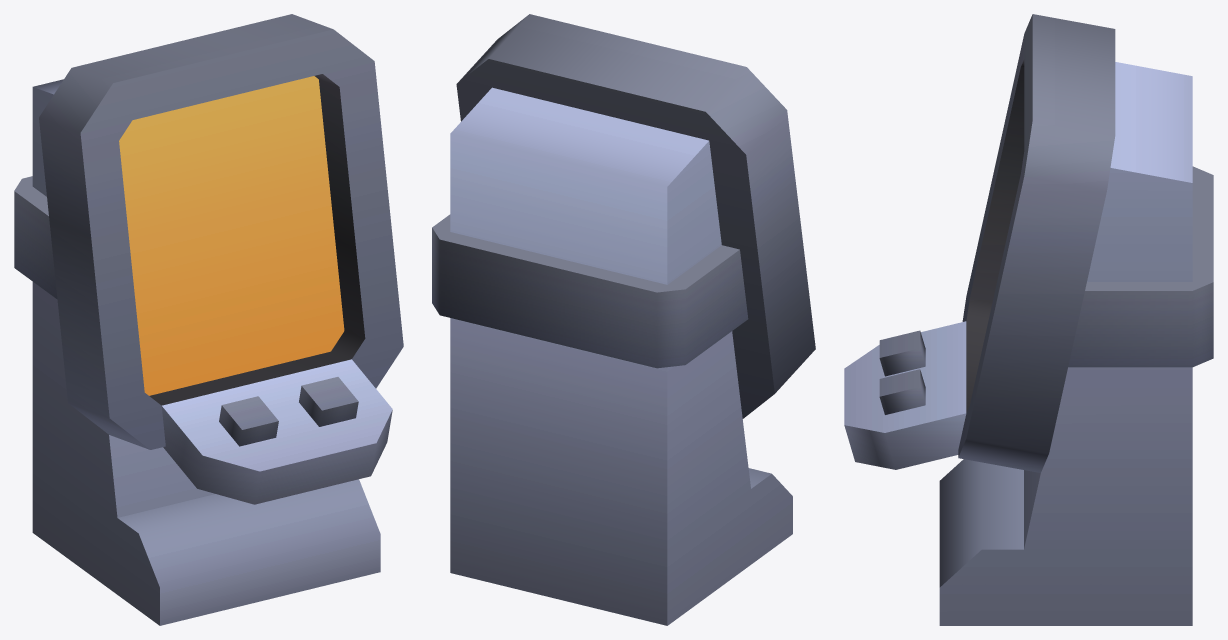
File: k-space-station-computer.glb
The picture shows the model from 3 angles, left to right: view 1: azimuth 30°, elevation 25°; view 2: azimuth 150°, elevation 25°; view 3: azimuth 270°, elevation 25°; orthographic projection.
Parts seen in each view (by area): view 1: computer; view 2: computer; view 3: computer.
Boxes of the visible parts, x1,y1,x2,y2 form: computer: (14,14,403,625); computer: (432,14,815,625); computer: (844,14,1213,625).
Bounding box in the file's own units: 0.4 × 0.6609 × 0.4381.
1 material, 1 textured.
